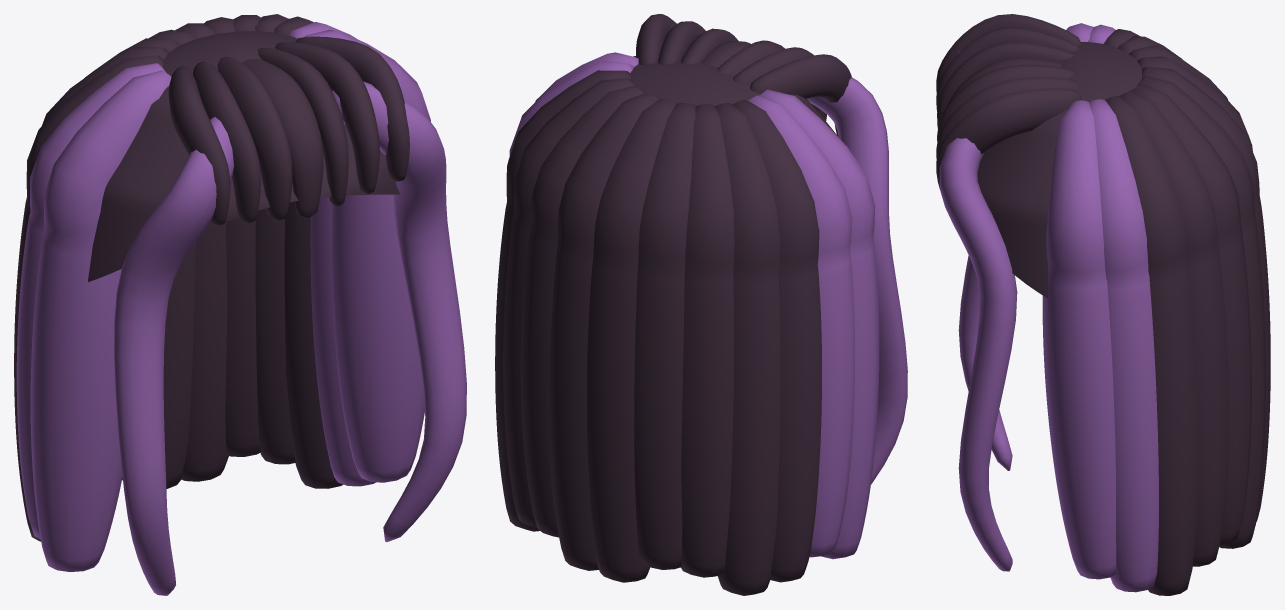
File: studio_straight_long_long.glb
3 renders of one model, left to right at view 1: azimuth 30°, elevation 25°; view 2: azimuth 150°, elevation 25°; view 3: azimuth 270°, elevation 25°, orthographic. The views are drawn at different scales.
Visible parts, largest first — view 1: straight_long; view 2: straight_long; view 3: straight_long.
Boxes of the visible parts, bbox=[...] form: straight_long: bbox=[14, 14, 466, 595]; straight_long: bbox=[495, 14, 907, 595]; straight_long: bbox=[936, 14, 1270, 595].
Bounding box in the file's own units: 0.564 × 0.7041 × 0.445.
